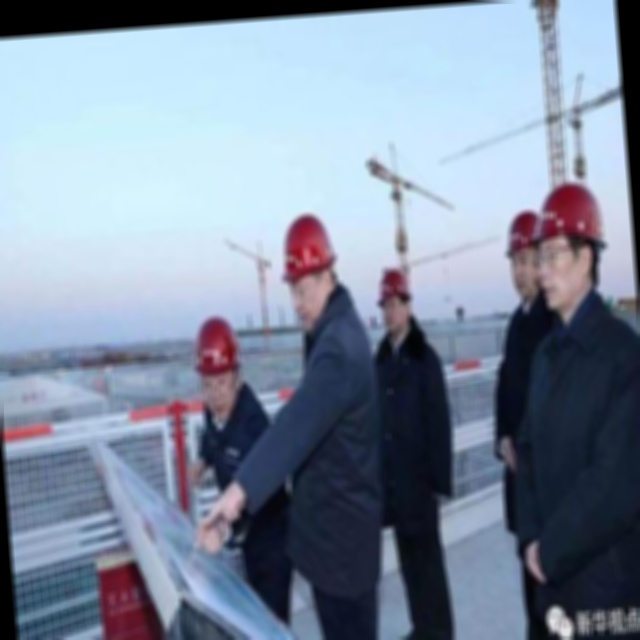Con_Casco: (283, 212, 339, 325), (196, 317, 241, 413)
Sin_Chaleco: (523, 316, 640, 597)
